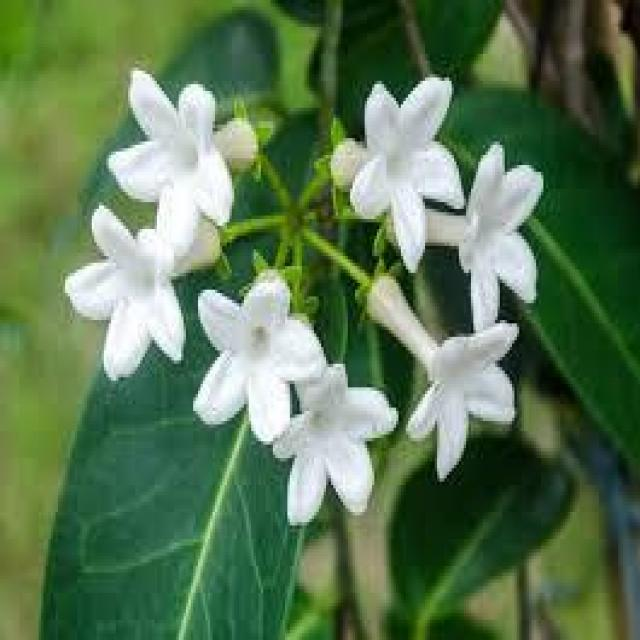organic waste: (327, 251, 530, 470), (53, 172, 210, 384), (162, 258, 328, 446), (334, 62, 486, 254), (103, 71, 255, 229), (261, 352, 398, 524), (441, 135, 559, 323)
